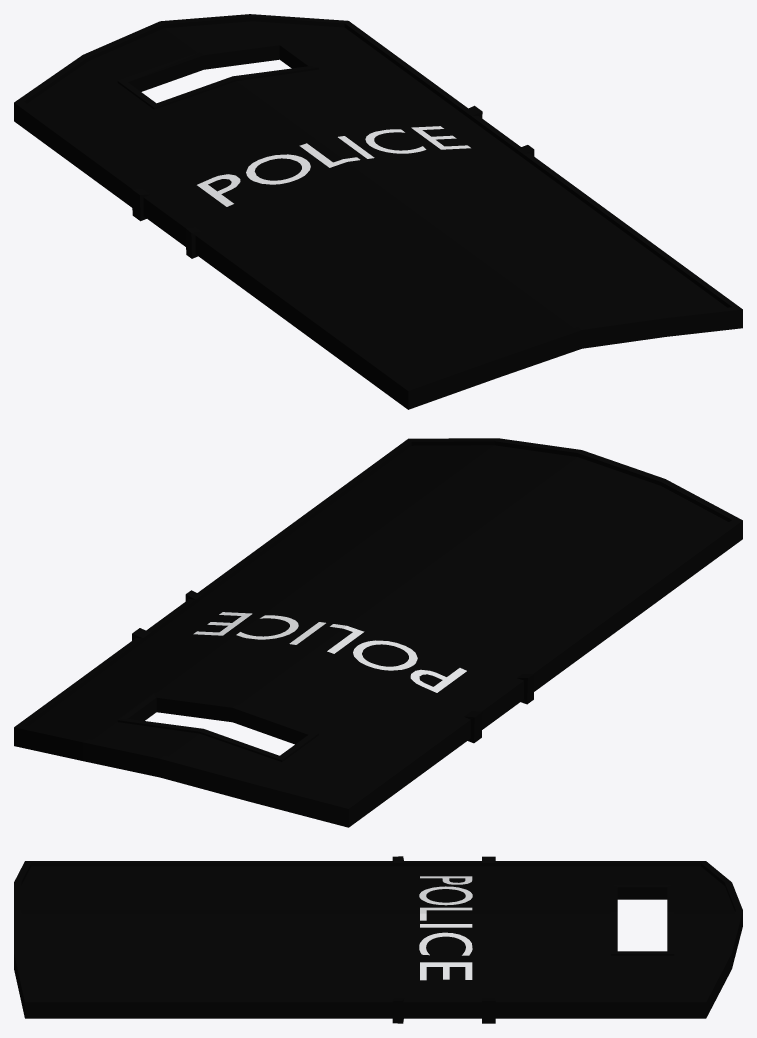
Rendered from scene_FCVFn1mWIx.glb.
3 views of the same model, one above another, from view 1: azimuth 30°, elevation 25°; view 2: azimuth 150°, elevation 25°; view 3: azimuth 270°, elevation 25° (orthographic). The views are drawn at different scales.
Visible parts, largest first — view 1: Police_Shield; view 2: Police_Shield; view 3: Police_Shield.
Boxes of the visible parts, x1,y1,x2,y2 form: Police_Shield: (14,14,742,409); Police_Shield: (14,438,742,827); Police_Shield: (14,856,742,1023).
Size of the model in its own units: 1.17 by 0.1839 by 2.49.
1 material, 1 textured.
